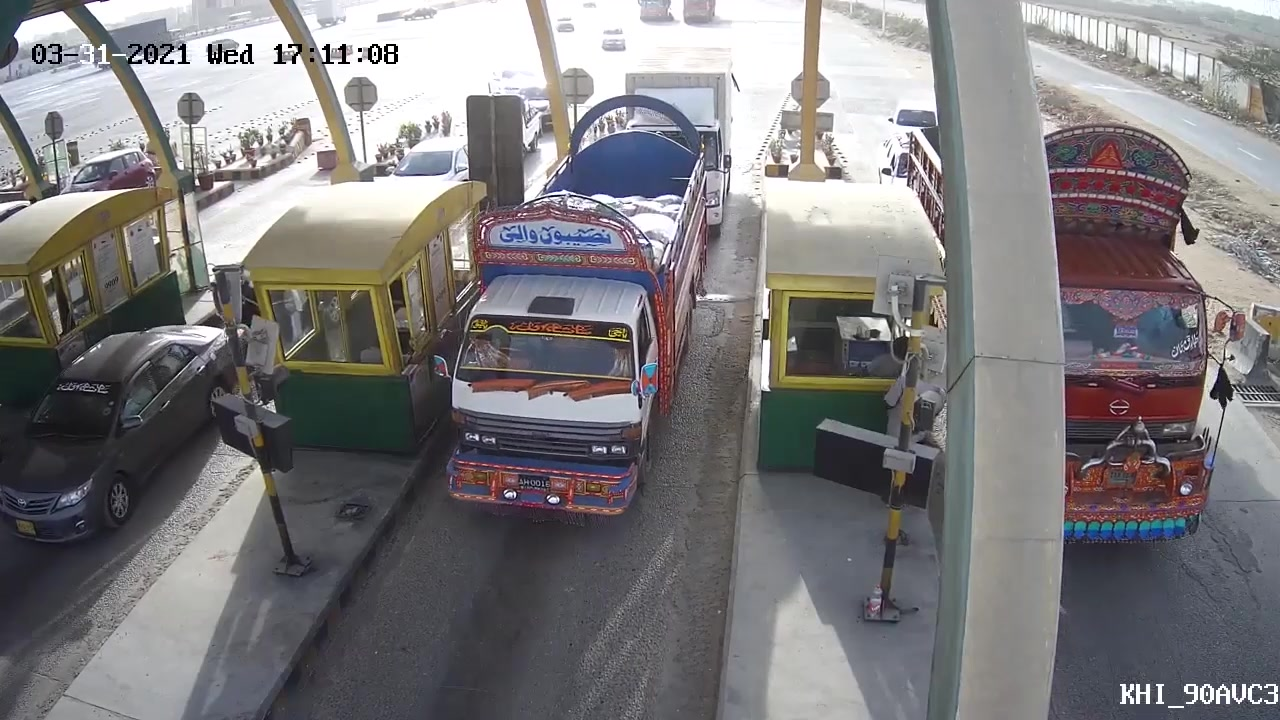F5: (441, 99, 713, 529)
